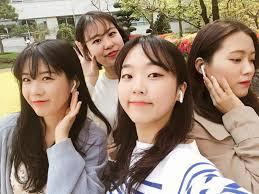earphone: (196, 65, 210, 84), (68, 78, 78, 91), (177, 91, 185, 104)
